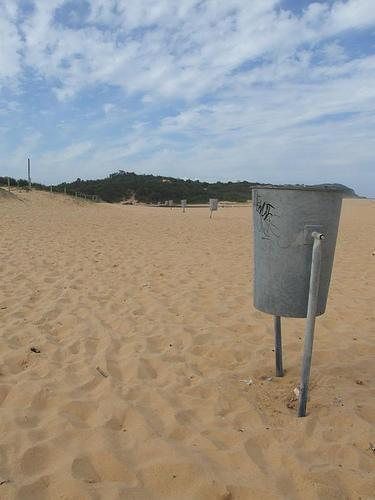Bote de Basura: (246, 182, 345, 315), (206, 194, 220, 211), (179, 198, 186, 206)
